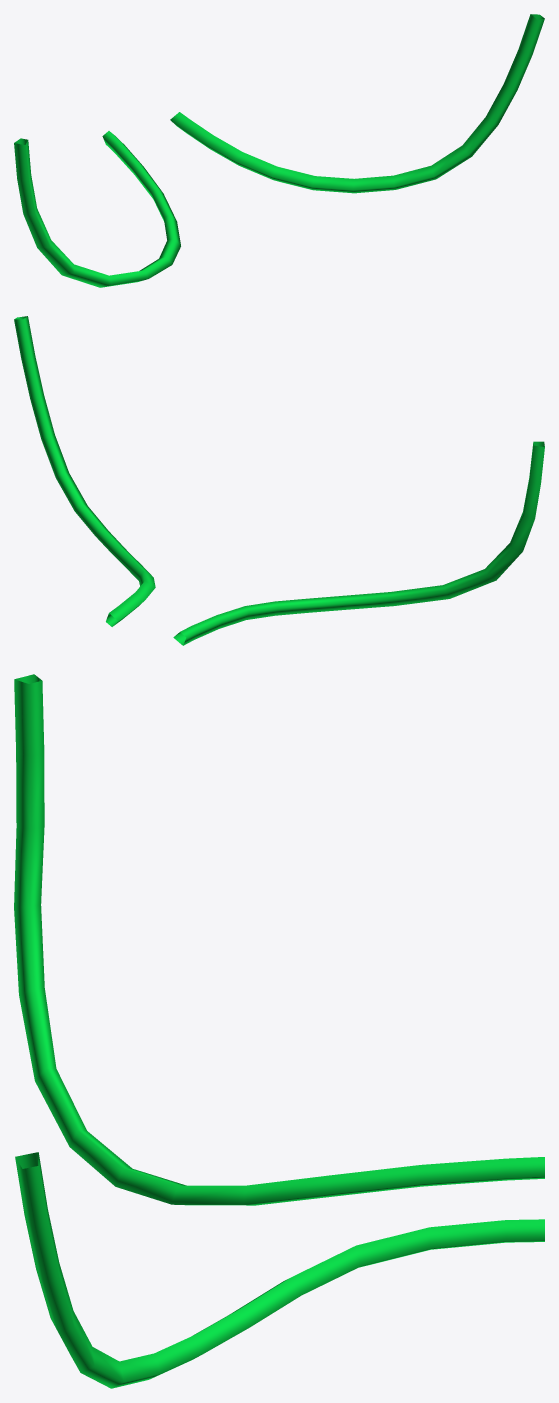
File: Earthmover_Body_WireTubeFront_01a_snaps005.fbx
3 renders of one model, top to bottom at view 1: azimuth 30°, elevation 25°; view 2: azimuth 150°, elevation 25°; view 3: azimuth 270°, elevation 25°, orthographic. The views are drawn at different scales.
Visible parts, largest first — view 1: Earthmover_Body_10a_snaps005; view 2: Earthmover_Body_10a_snaps005; view 3: Earthmover_Body_10a_snaps005.
Boxes of the visible parts, x1,y1,x2,y2 form: Earthmover_Body_10a_snaps005: (14, 14, 544, 287); Earthmover_Body_10a_snaps005: (14, 316, 544, 645); Earthmover_Body_10a_snaps005: (14, 674, 544, 1388).
Size of the model in its own units: 114 by 38.64 by 52.16.
